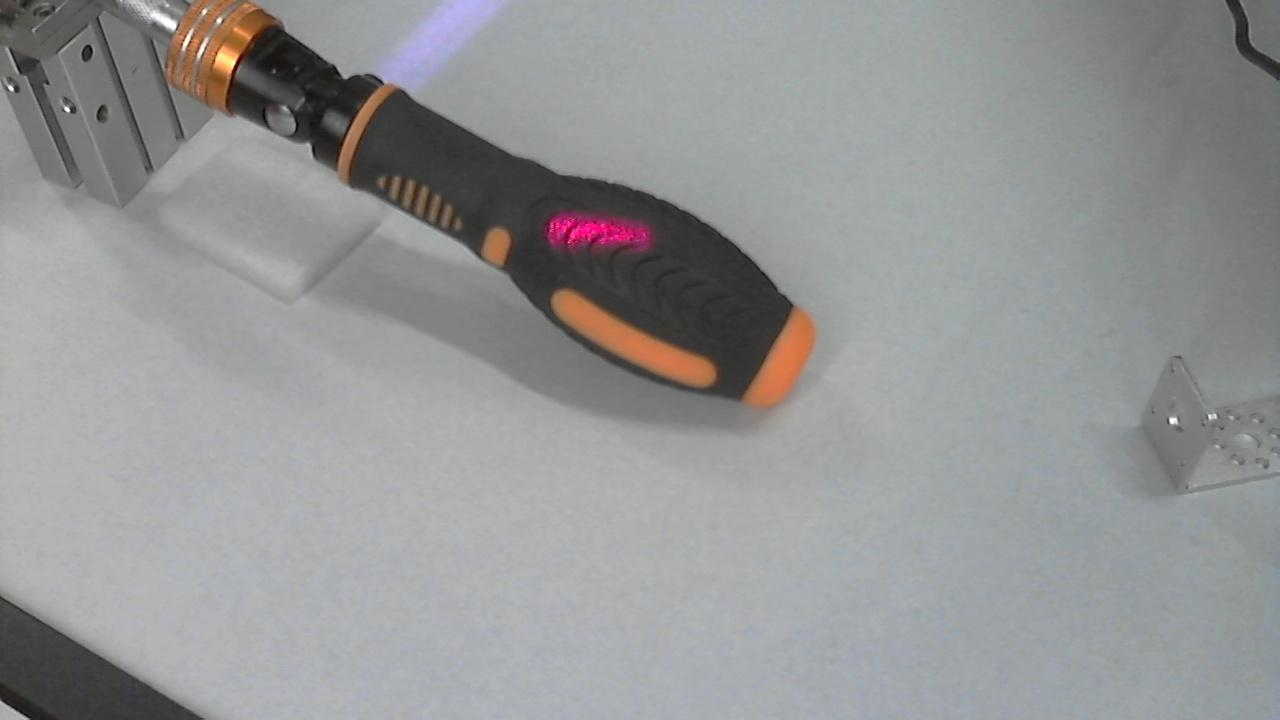Object protective phone case - Material rubber - Pdfname asdfeafgta: (490, 191, 674, 269)
